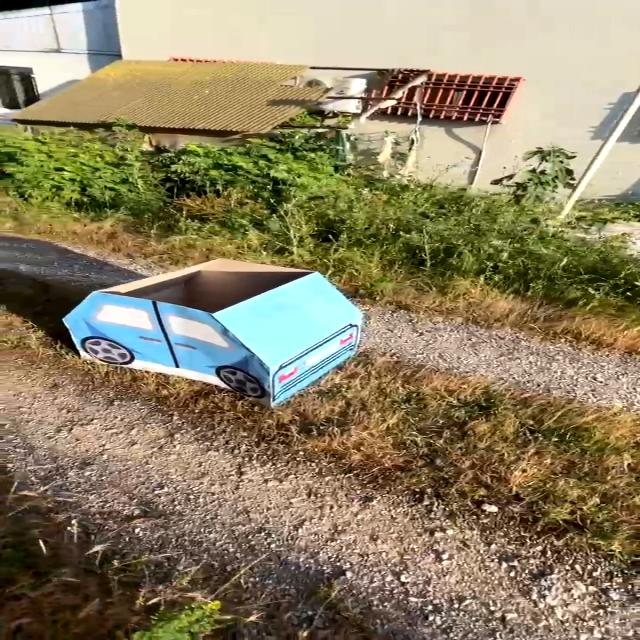blue_car: (0, 242, 412, 411)
